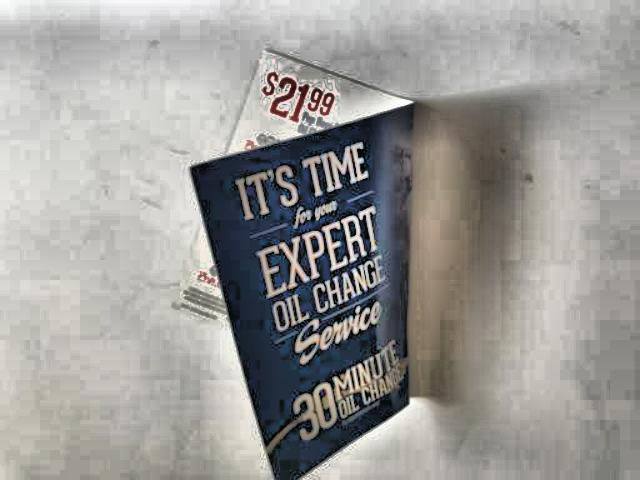Paper: (162, 40, 436, 480)
